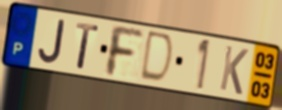1: (195, 37, 212, 94)
D: (137, 29, 176, 86)
F: (105, 23, 145, 80)
J: (36, 18, 67, 66)
K: (218, 43, 251, 97)
T: (74, 20, 100, 72)
